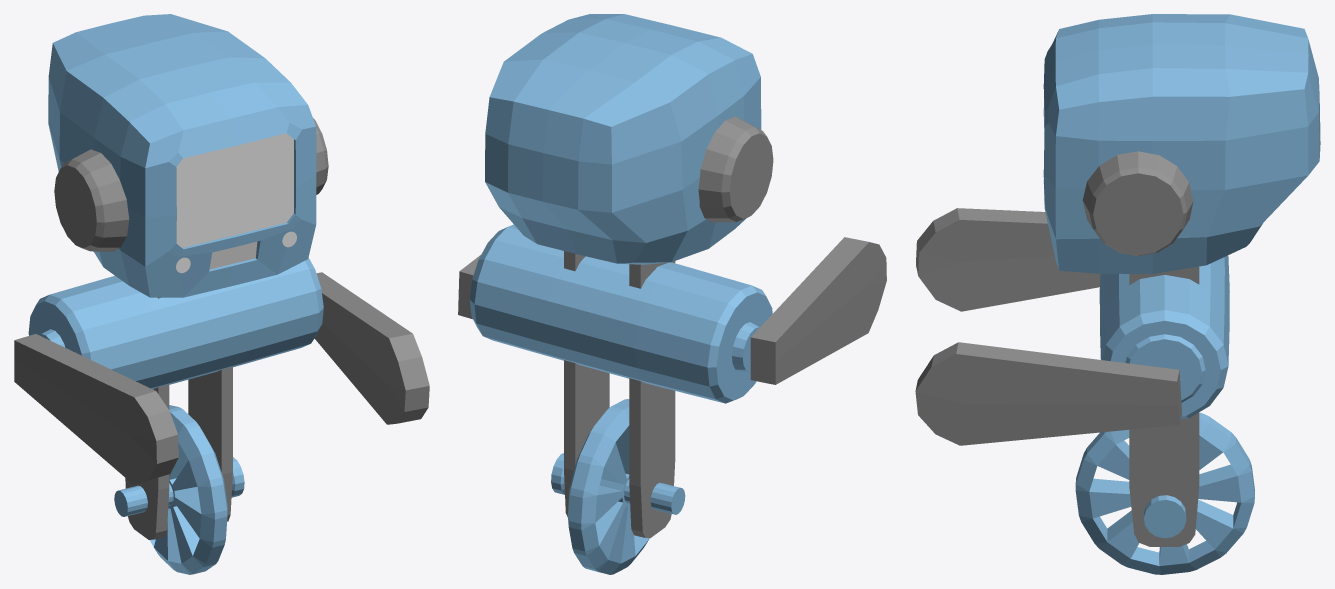
File: pizzadeliveryguy.fbx
3 renders of one model, left to right at view 1: azimuth 30°, elevation 25°; view 2: azimuth 150°, elevation 25°; view 3: azimuth 270°, elevation 25°, orthographic. The views are drawn at different scales.
Parts seen in each view (by area): view 1: Cube, Body, Right arm, Screen, Right arm.001, Cylinder, Ear, Cube.001, mouth; view 2: Cube, Body, Right arm, Cube.001, Cylinder, Ear, Right arm.001; view 3: Cube, Right arm.001, Cylinder, Body, Right arm, Ear, Cube.001.
Part boxes in pixels (x1,y1,x2,y2): Cube: [48, 14, 316, 297]; Body: [28, 258, 323, 389]; Right arm: [14, 334, 178, 484]; Screen: [176, 133, 293, 247]; Right arm.001: [314, 272, 429, 424]; Cylinder: [114, 405, 244, 574]; Ear: [54, 118, 328, 251]; Cube.001: [125, 297, 232, 539]; mouth: [209, 241, 257, 269]; Cube: [485, 14, 761, 264]; Body: [469, 224, 772, 403]; Right arm: [750, 237, 886, 384]; Cube.001: [564, 251, 675, 538]; Cylinder: [551, 399, 685, 574]; Ear: [698, 116, 773, 222]; Right arm.001: [458, 255, 480, 319]; Cube: [1043, 14, 1320, 273]; Right arm.001: [915, 342, 1181, 445]; Cylinder: [1075, 412, 1254, 574]; Body: [1099, 255, 1229, 419]; Right arm: [916, 208, 1100, 311]; Ear: [1082, 151, 1193, 256]; Cube.001: [1129, 266, 1199, 546].
Bounding box in the file's own units: 123 × 193 × 134.
